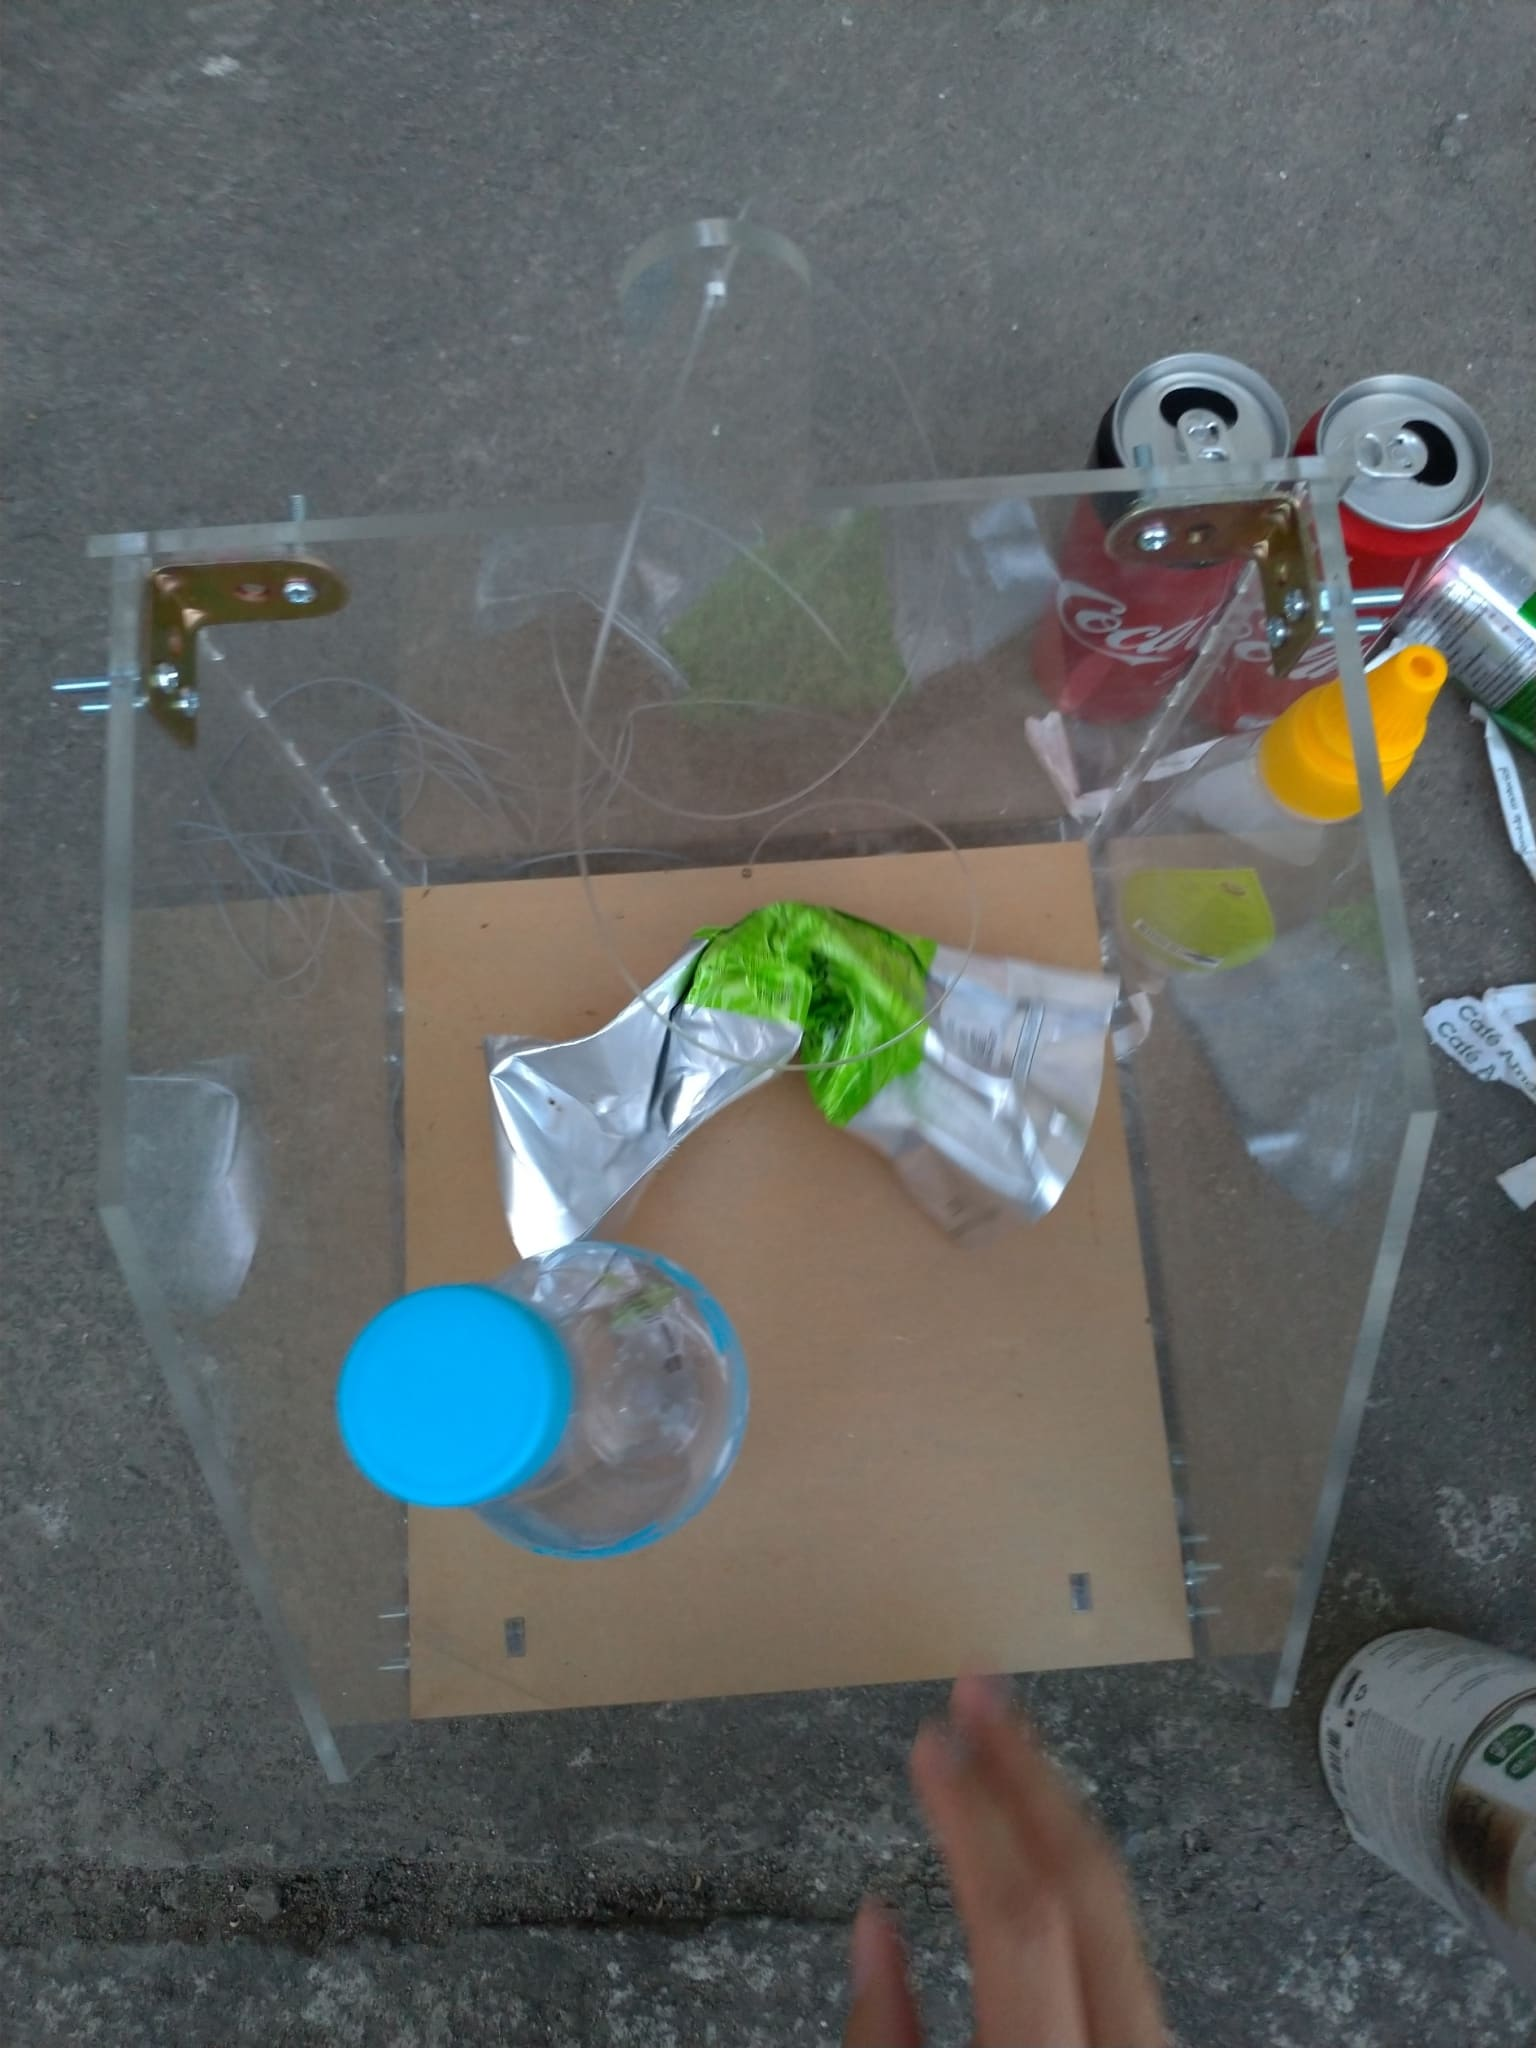AlCan: (1025, 355, 1292, 722), (1312, 1622, 1536, 1956), (1299, 358, 1486, 648)
Others: (470, 900, 1128, 1277)
PlasticBottle: (334, 1248, 753, 1551), (1112, 648, 1450, 1022)
